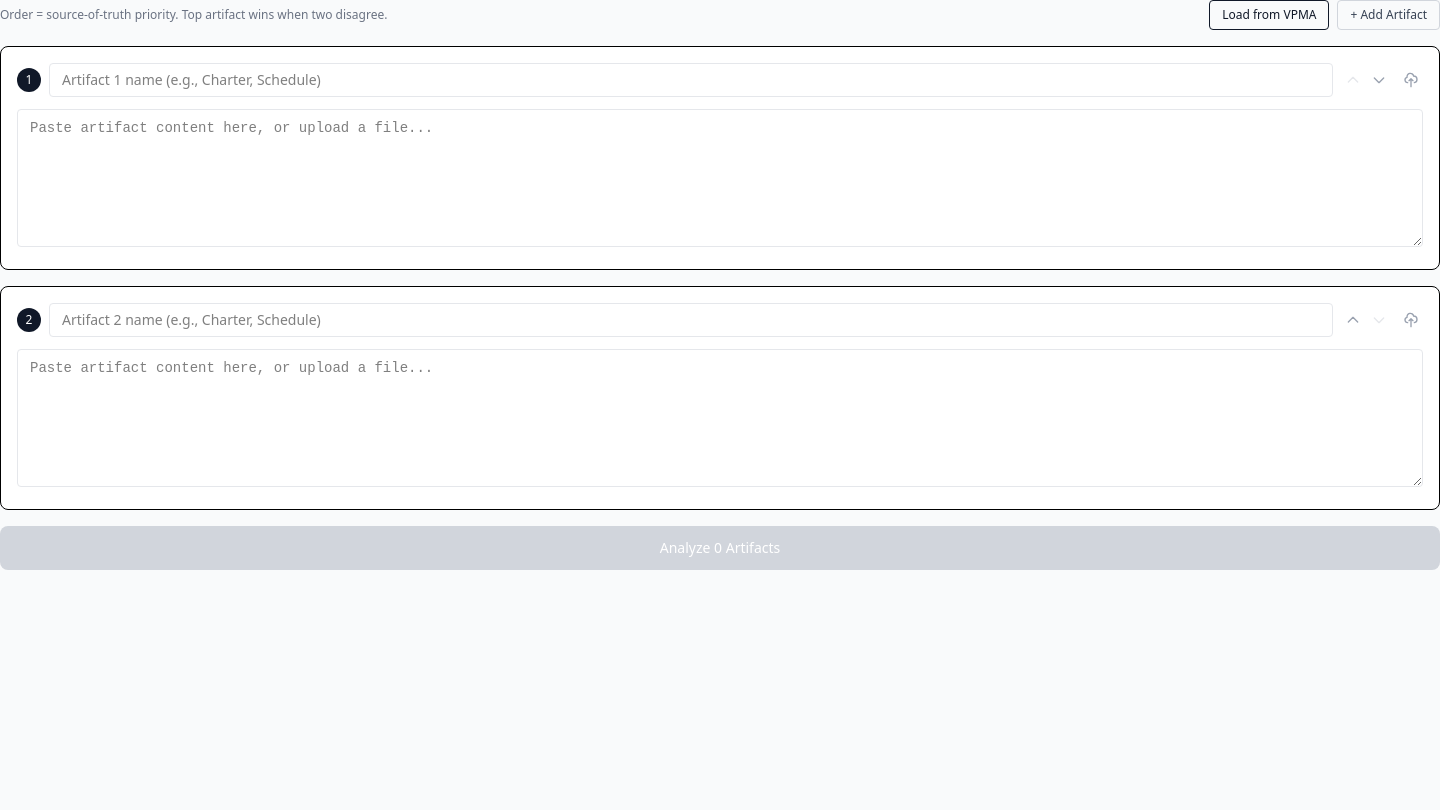
ArtifactUploader › Load from VPMA › opens loader panel and fetches available artifacts
The width and height of the screenshot is (1440, 810).
Click the button "Load from VPMA": (1269, 15) [1209,0,1330,30]
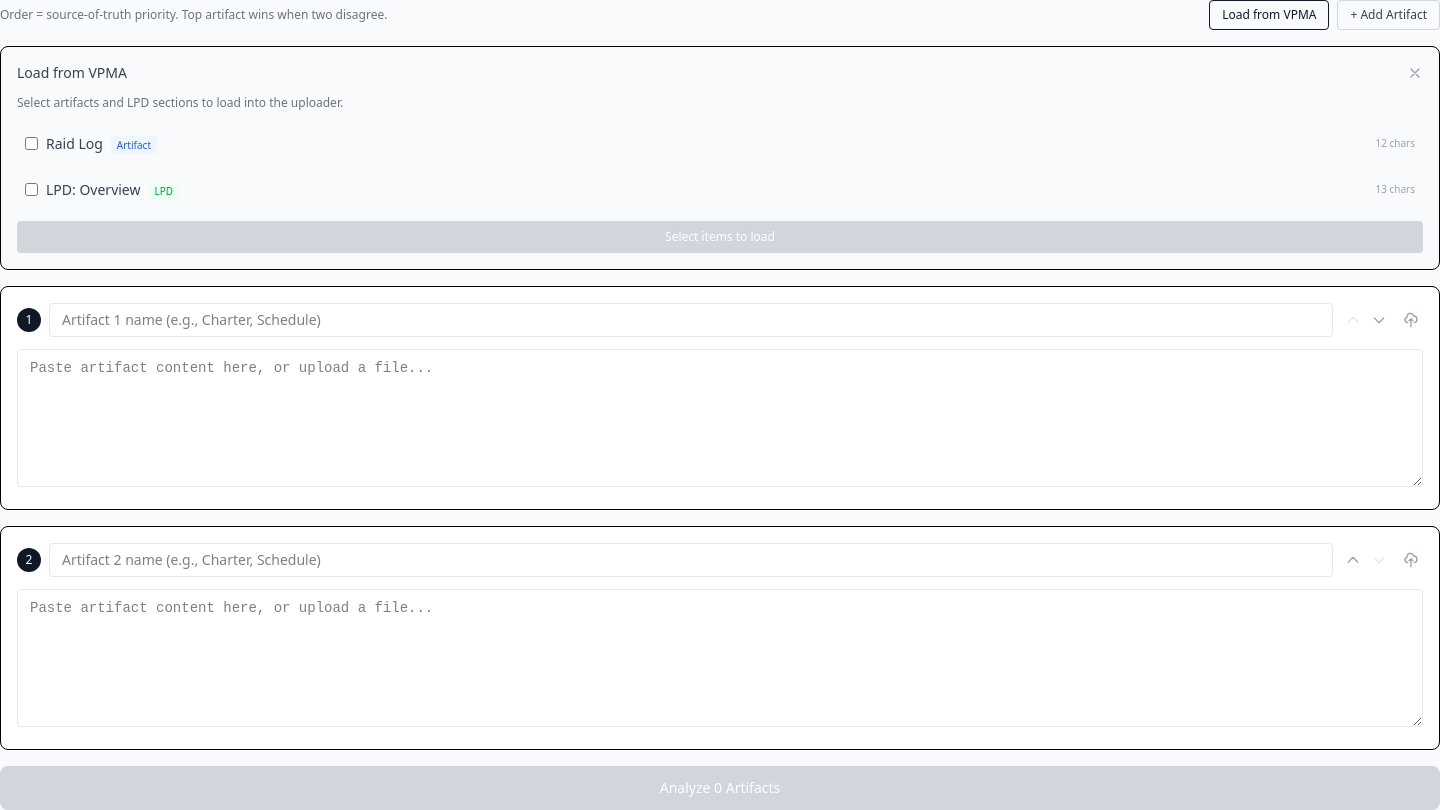
expect the text "Raid Log" is shown: met, box [46,134,103,153]
expect the text "LPD: Overview" is shown: met, box [46,180,140,199]
